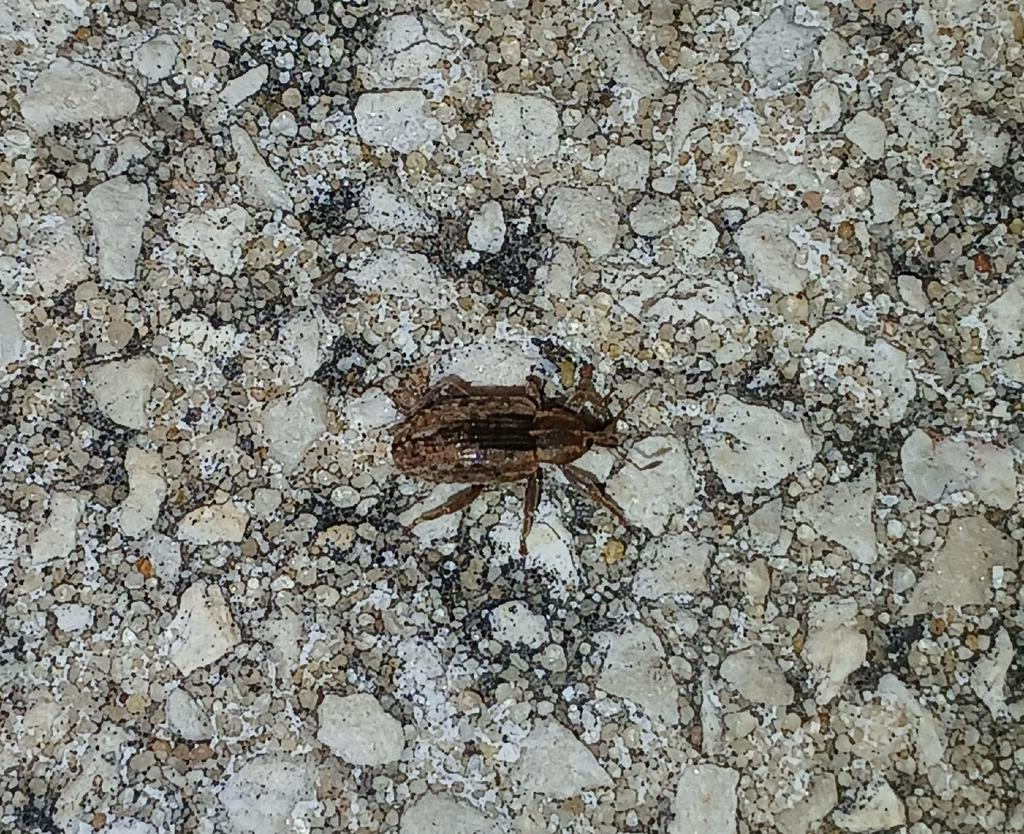weevils: (344, 324, 670, 579)
